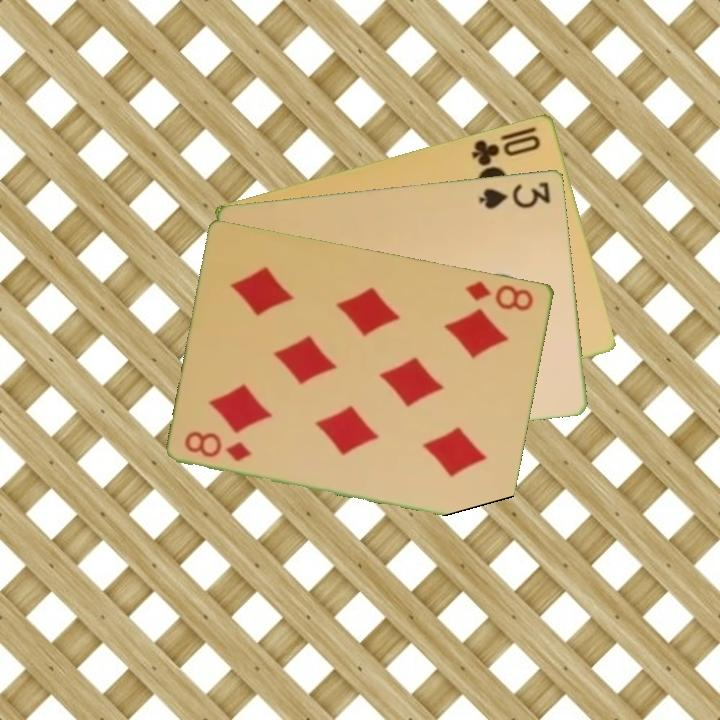10c: (468, 122, 544, 169)
3s: (475, 177, 554, 212)
8d: (461, 277, 537, 314), (181, 427, 255, 464)
